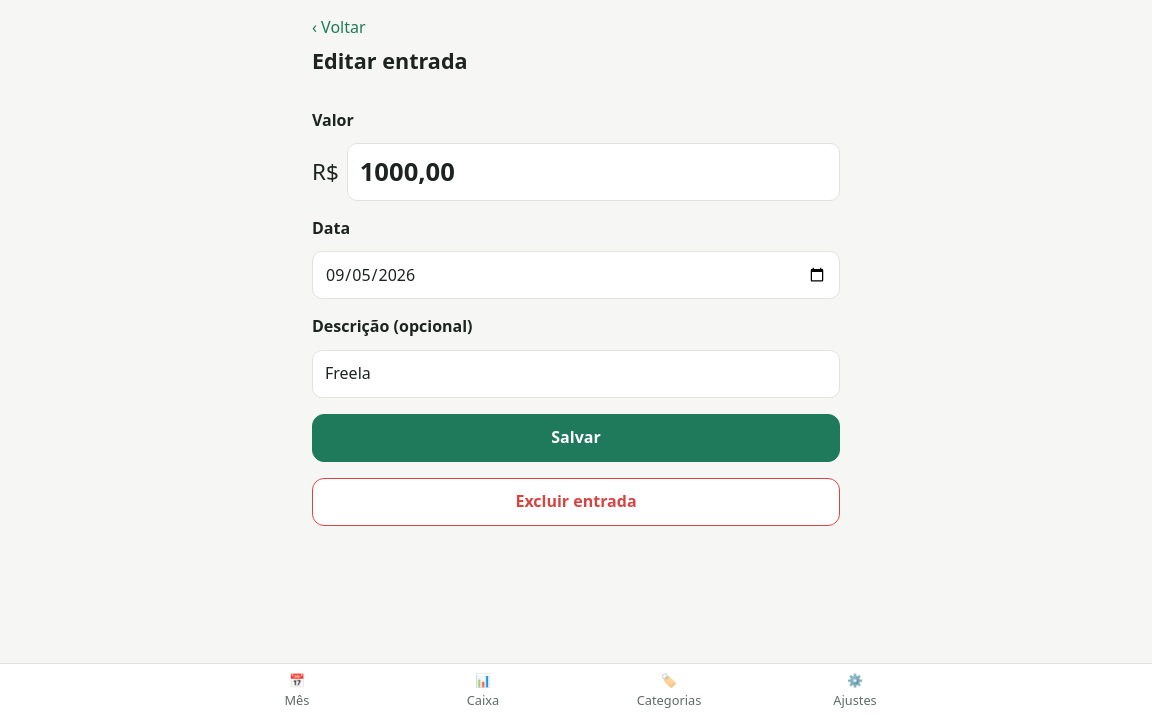
it: entrada › avisa quando não consegue excluir e permite tentar de novo
Click the button "Excluir entrada".
click(576, 502)  # box x1=312 y1=478 x2=840 y2=526
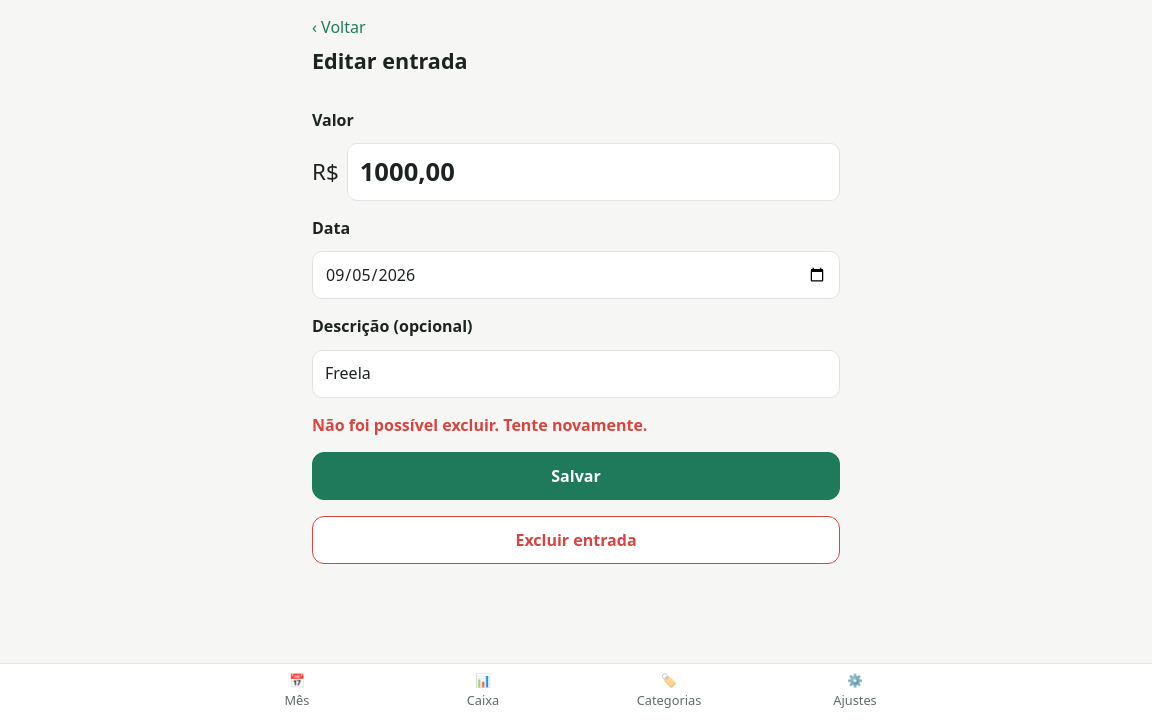
Expected: the button "Excluir entrada" is enabled, x1=312 y1=516 x2=840 y2=564
Expected: the message shows "Não foi possível excluir", x1=312 y1=414 x2=647 y2=436
